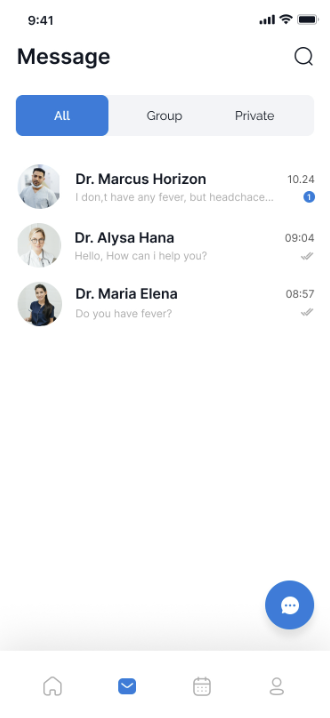BottomBar: (1, 651, 330, 718)
